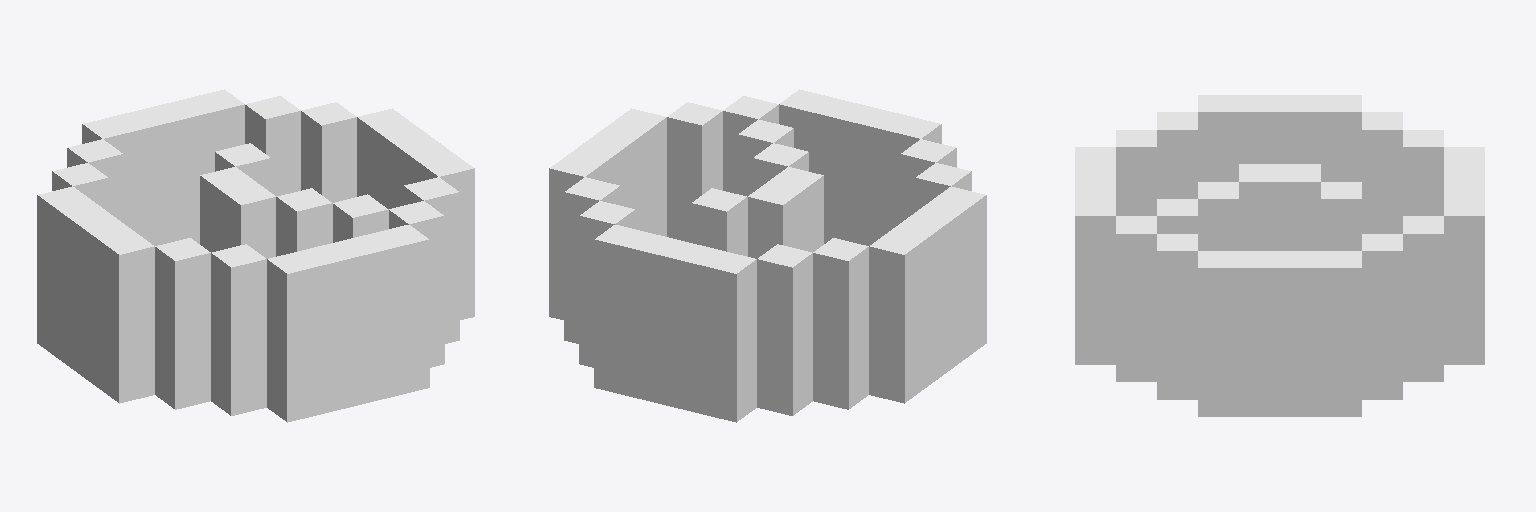
The picture shows the model from 3 angles: view 1: azimuth 30°, elevation 25°; view 2: azimuth 150°, elevation 25°; view 3: azimuth 270°, elevation 25°; orthographic projection.
Parts seen in each view (by area): view 1: object 1; view 2: object 1; view 3: object 1.
Part boxes in pixels (left/top/right/bottom): object 1: left=37, top=89, right=474, bottom=422; object 1: left=549, top=89, right=986, bottom=422; object 1: left=1075, top=95, right=1484, bottom=416.
Size of the model in its own units: 1 by 0.4 by 1.
1 materials, 1 textured.